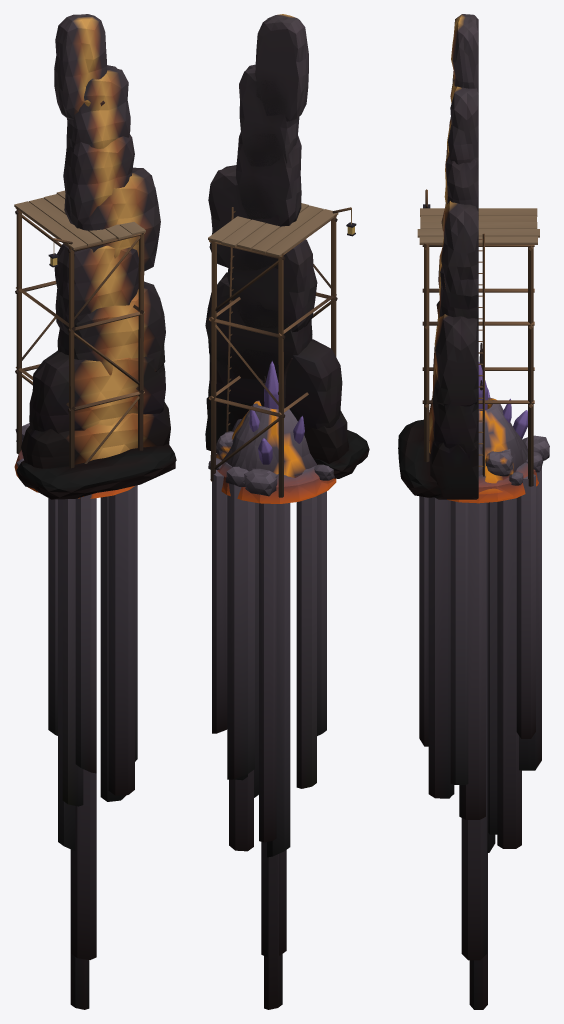
File: volcano-s6-Bk6_62U3.glb
3 renders of one model, left to right at view 1: azimuth 30°, elevation 25°; view 2: azimuth 150°, elevation 25°; view 3: azimuth 270°, elevation 25°, orthographic.
Visible parts, largest first — view 1: sc_flow_1, sc_hang_1, sc_scaffold_1; view 2: sc_hang_1, sc_flow_1, sc_scaffold_1, sc_z3_1, sc_z3_2, sc_z3_3, sc_z1_2; view 3: sc_hang_1, sc_flow_1, sc_scaffold_1, sc_z3_1, sc_z3_3, sc_z1_2, sc_z3_2.
Part boxes in pixels (x1,y1,x2,y2): sc_flow_1: [16, 14, 176, 499]; sc_hang_1: [48, 485, 137, 1009]; sc_scaffold_1: [14, 190, 145, 468]; sc_hang_1: [212, 470, 326, 1009]; sc_flow_1: [205, 14, 369, 478]; sc_scaffold_1: [208, 203, 356, 497]; sc_z3_1: [221, 400, 316, 477]; sc_z3_2: [210, 358, 336, 503]; sc_z3_3: [208, 431, 336, 501]; sc_z1_2: [244, 361, 313, 486]; sc_hang_1: [419, 467, 541, 1009]; sc_flow_1: [398, 14, 478, 499]; sc_scaffold_1: [417, 189, 539, 486]; sc_z3_1: [478, 397, 527, 494]; sc_z3_3: [455, 435, 549, 501]; sc_z1_2: [478, 362, 543, 500]; sc_z3_2: [447, 342, 543, 503].
Bounding box in the file's own units: 12 × 83.53 × 11.66.
